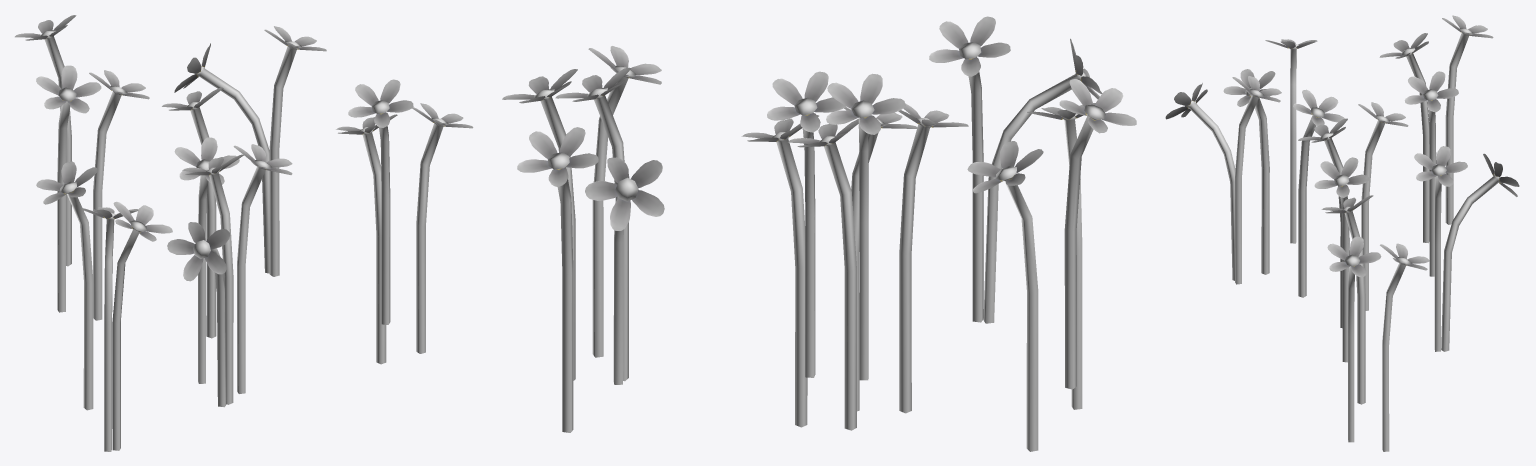
File: Flowers.fbx
The picture shows the model from 3 angles, left to right: view 1: azimuth 30°, elevation 25°; view 2: azimuth 150°, elevation 25°; view 3: azimuth 270°, elevation 25°; orthographic projection. The views are drawn at different scales.
Parts seen in each view (by area): view 1: Flowers; view 2: Flowers; view 3: Flowers.
Part boxes in pixels (bbox=[...]): Flowers: bbox=[15, 15, 473, 451]; Flowers: bbox=[502, 16, 1136, 451]; Flowers: bbox=[1165, 15, 1519, 451].
Size of the model in its own units: 1.53 by 1.2 by 1.21.
